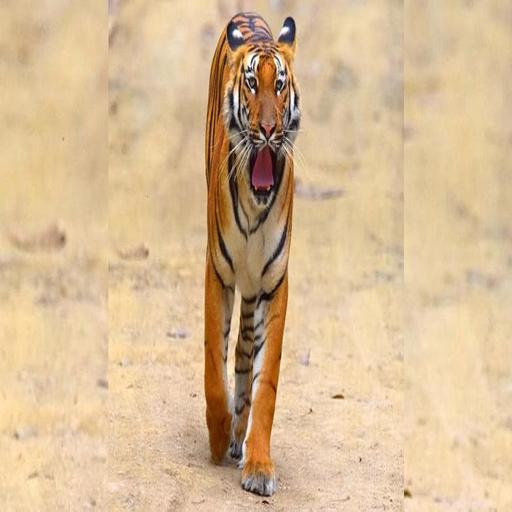Tiger: (195, 0, 318, 508)
